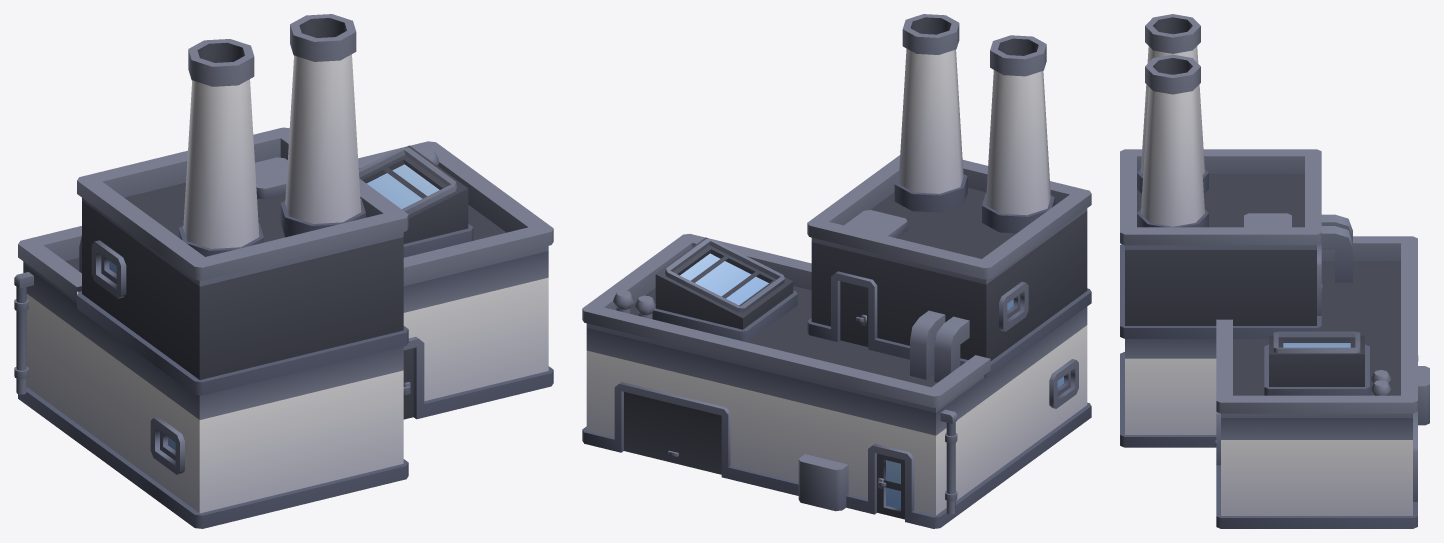
File: building-e.fbx
3 views of the same model, side by side, from view 1: azimuth 30°, elevation 25°; view 2: azimuth 150°, elevation 25°; view 3: azimuth 270°, elevation 25° (orthographic). The views are drawn at different scales.
Parts seen in each view (by area): view 1: building-e; view 2: building-e; view 3: building-e.
Boxes of the visible parts, x1=… form: building-e: x1=14, y1=14, x2=553, y2=528; building-e: x1=582, y1=14, x2=1091, y2=528; building-e: x1=1120, y1=14, x2=1429, y2=528.
Bounding box in the file's own units: 168 × 165 × 129.
Materials: 1 (1 with a texture image).
